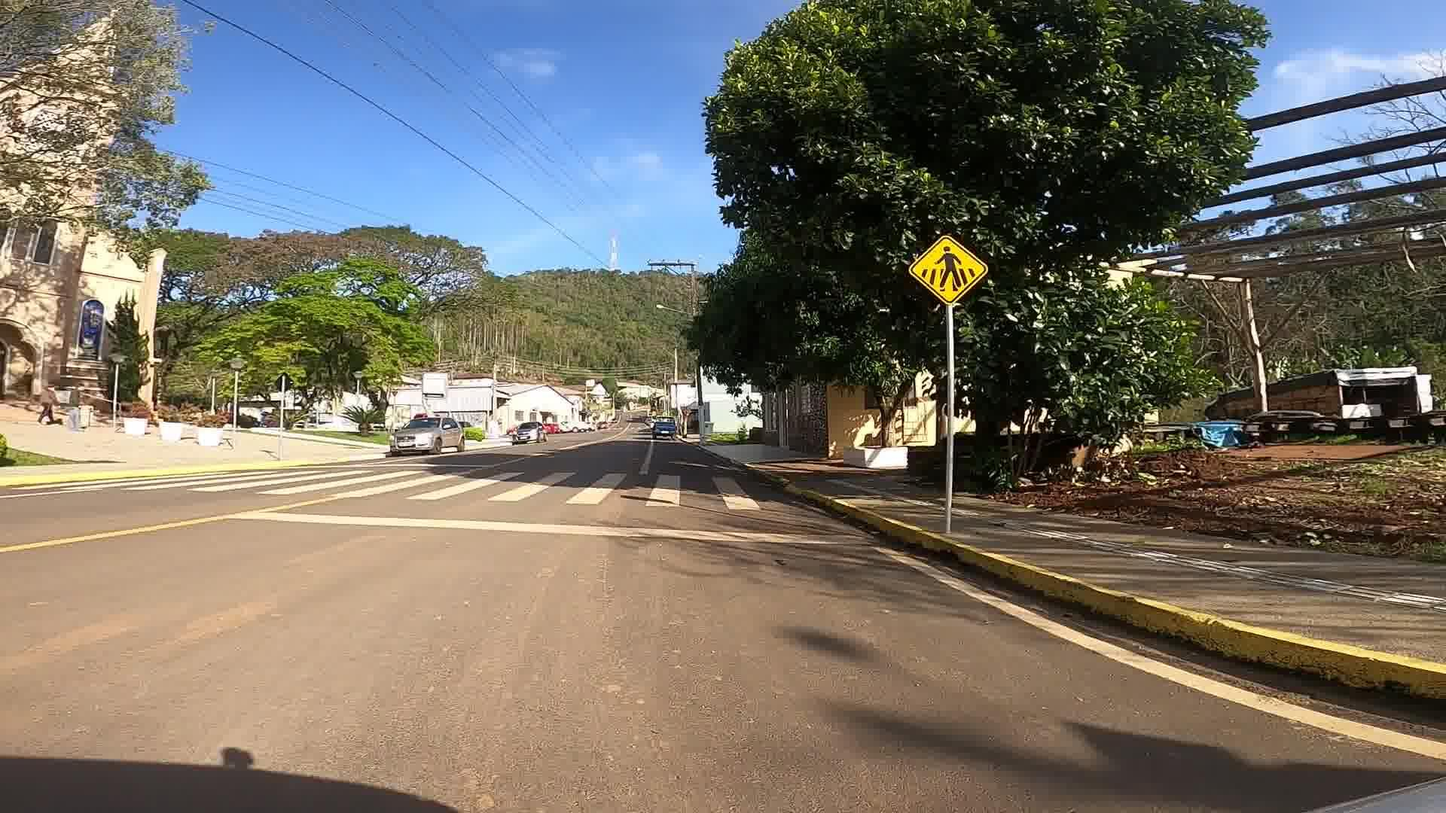A-32b: (908, 230, 991, 309)
